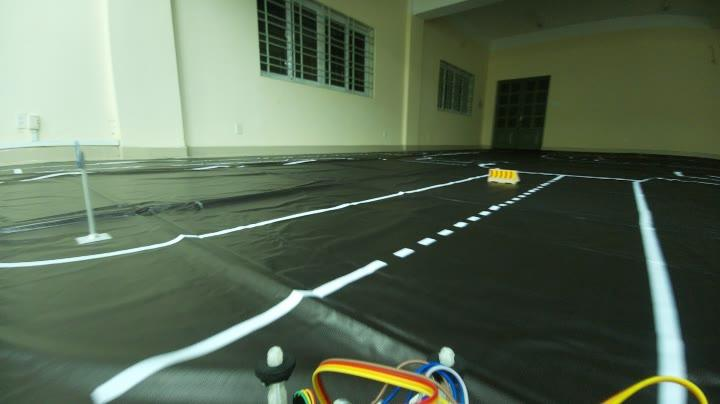onewayroad: (72, 138, 90, 169)
roadblock: (490, 166, 518, 182)
